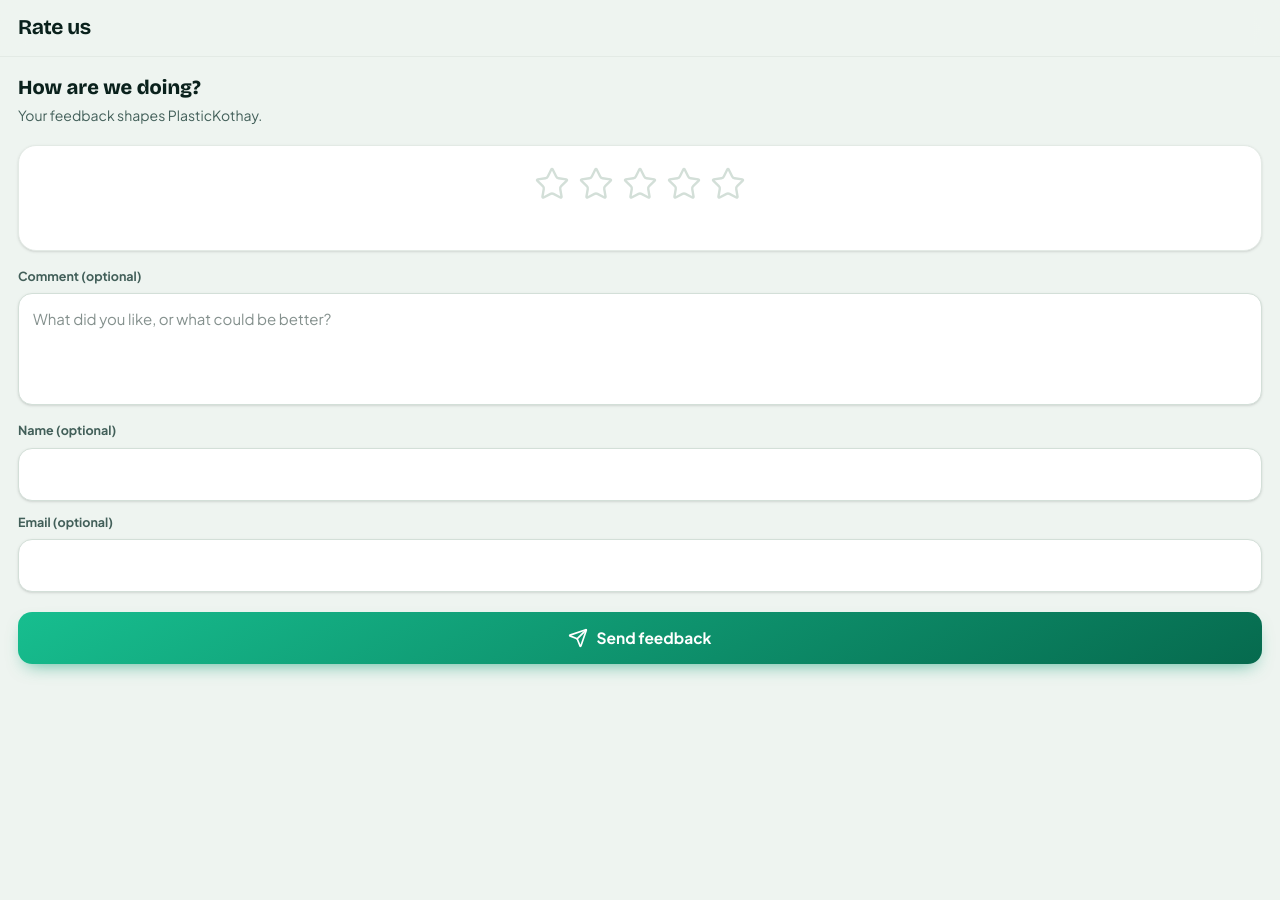
Test: FeedbackFormPage › requires a rating before submitting
The width and height of the screenshot is (1280, 900).
Click the button "Send feedback": [640, 638] box 18,612 -> 1262,664
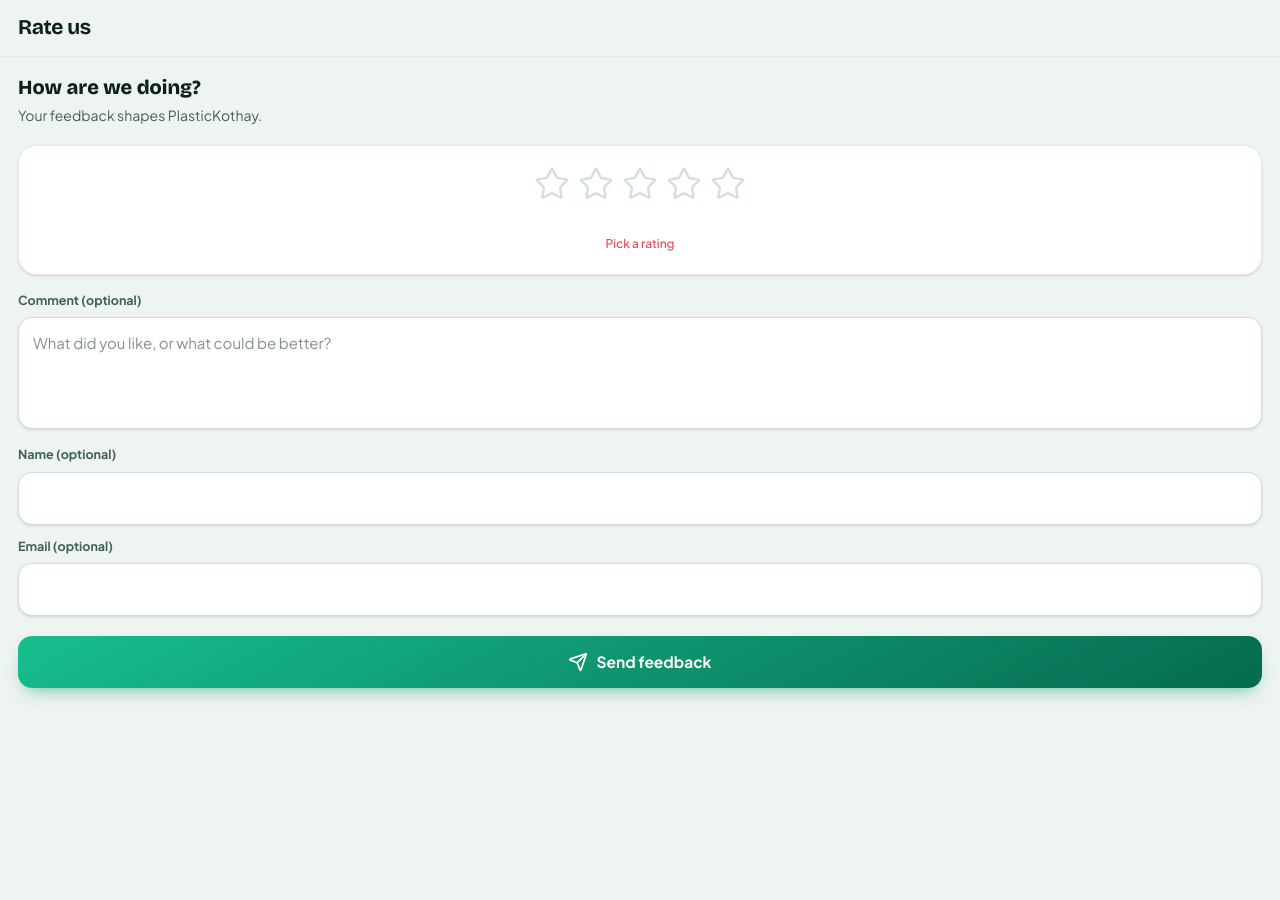
Now the text "Pick a rating" is shown, box 606,236 -> 674,250
